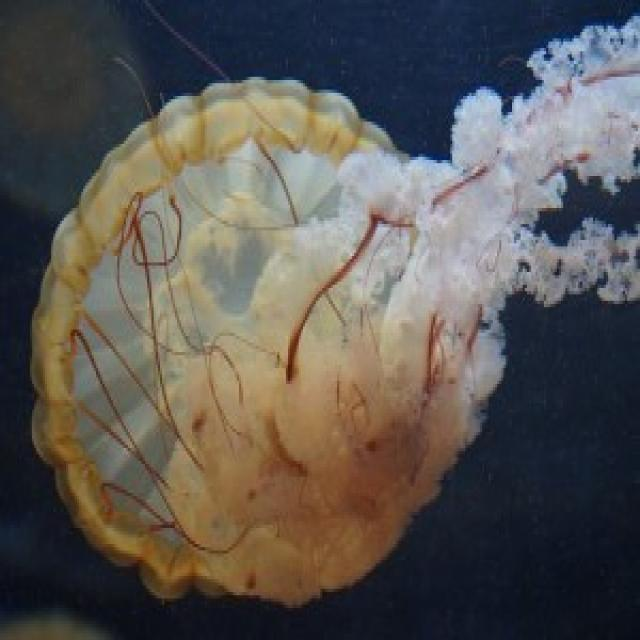Jellyfish: (14, 49, 640, 613)
